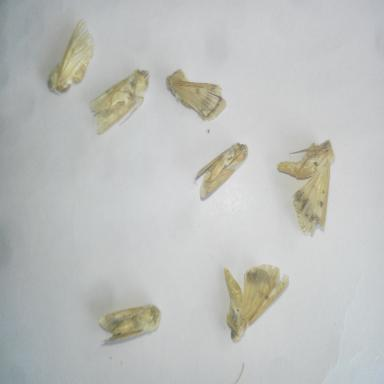abw: (266, 131, 342, 240), (216, 260, 292, 349), (44, 13, 104, 97), (87, 65, 153, 139), (162, 65, 230, 128), (190, 138, 252, 207), (97, 299, 165, 349)
